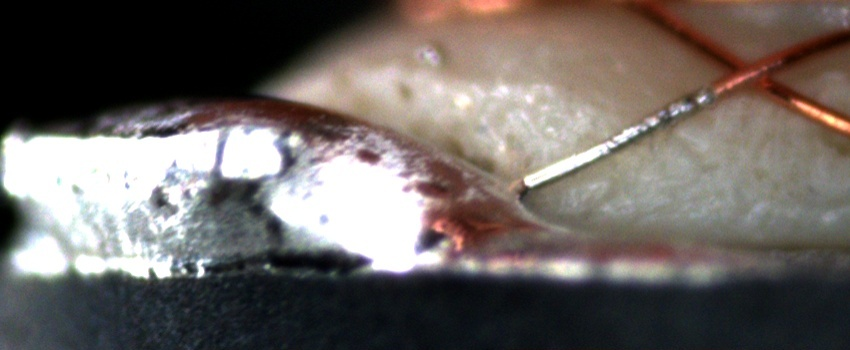CL: (706, 45, 788, 100)
TS: (519, 85, 716, 186)
